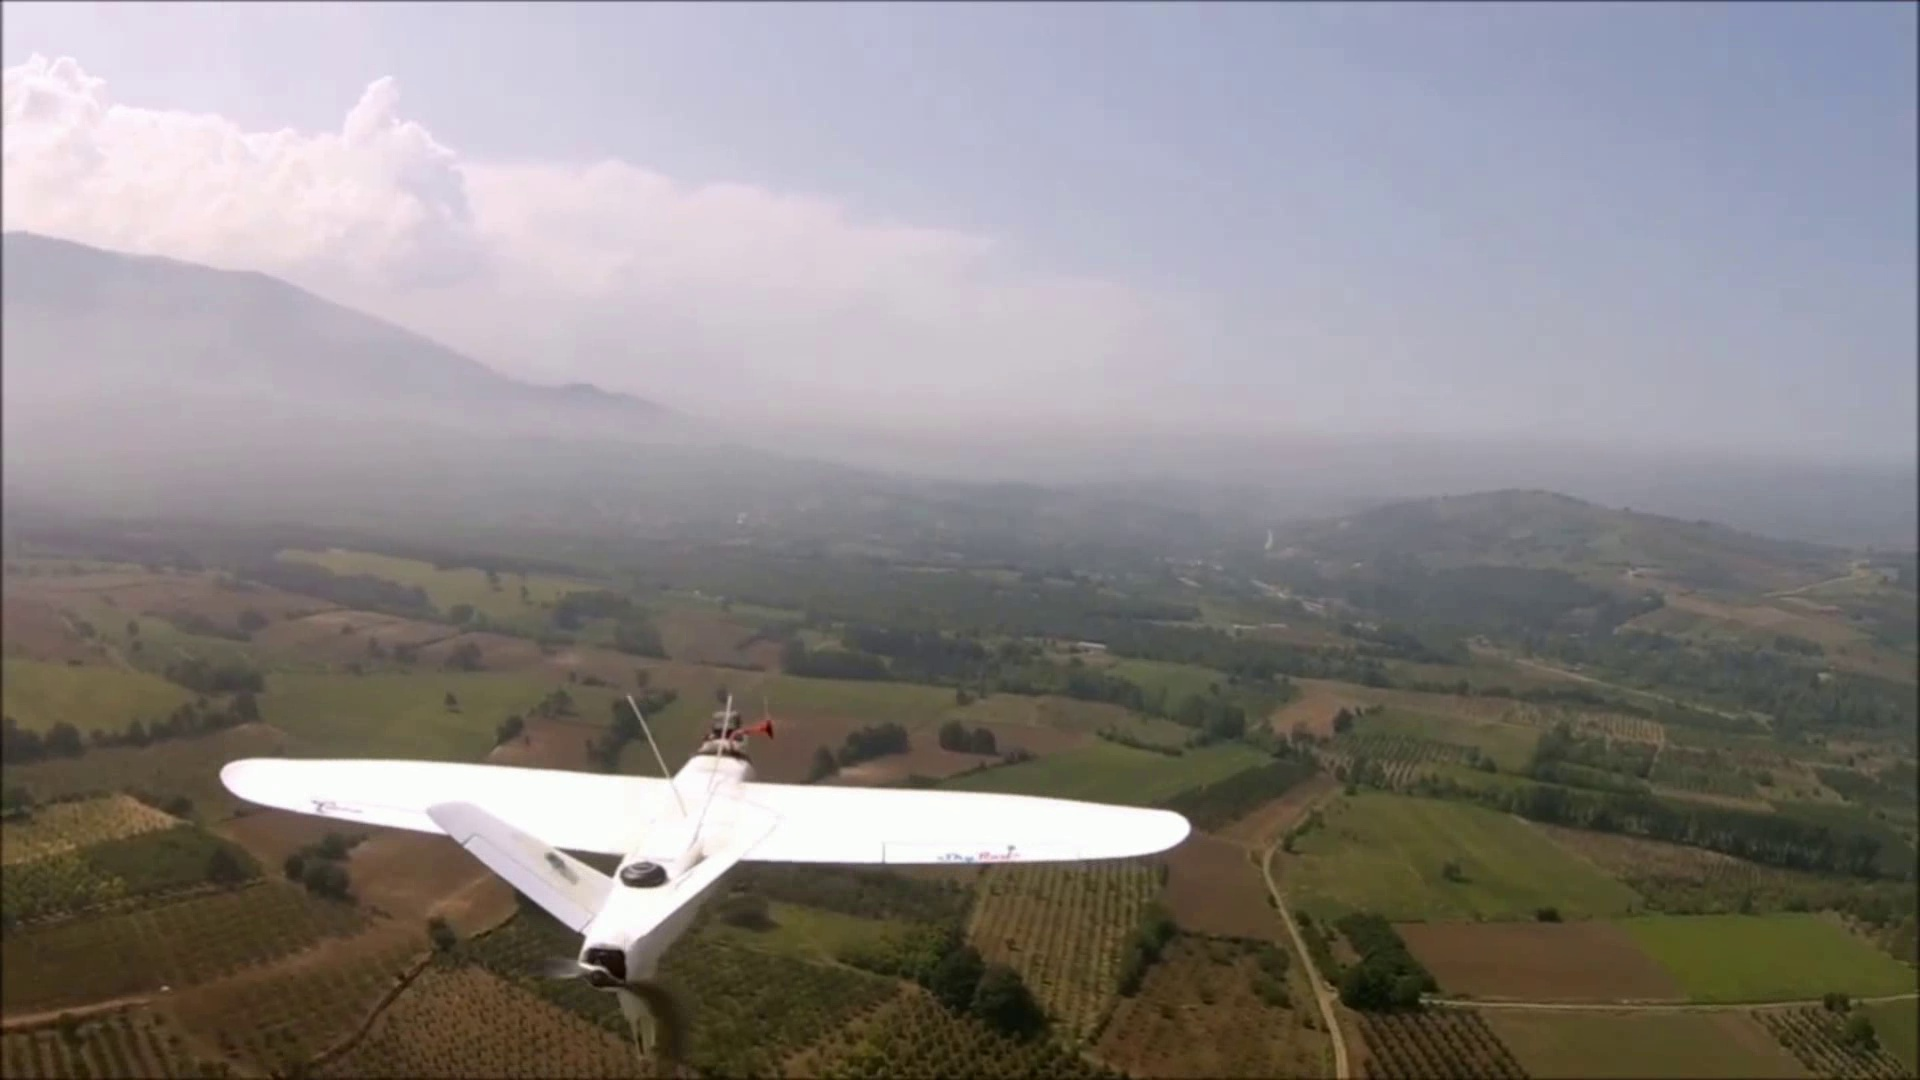airplane: (220, 718, 1192, 981)
